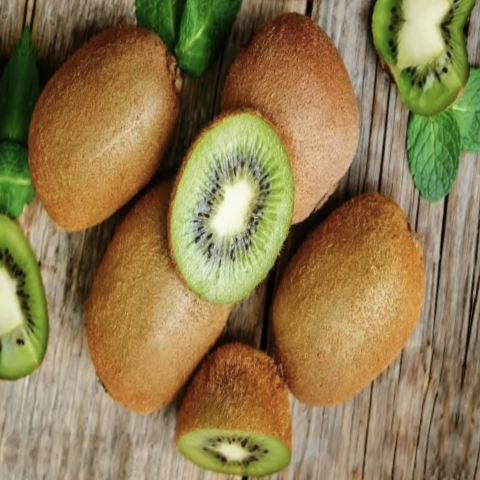kiwi: (67, 161, 263, 442), (240, 169, 448, 420), (194, 0, 389, 265), (0, 0, 194, 255)
